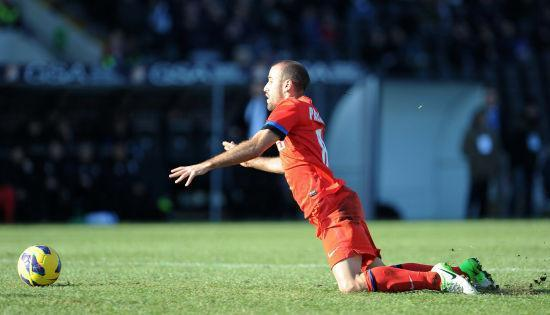Fall-Detected: (159, 65, 515, 284)
